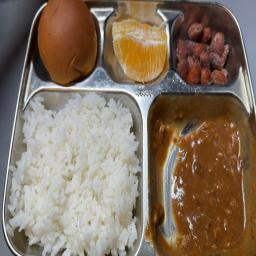100_bread: (36, 0, 97, 85)
100_nuts: (173, 20, 231, 87)
100_orange: (106, 16, 170, 83)
100_rice: (19, 94, 136, 252)
empty: (158, 108, 247, 248)
